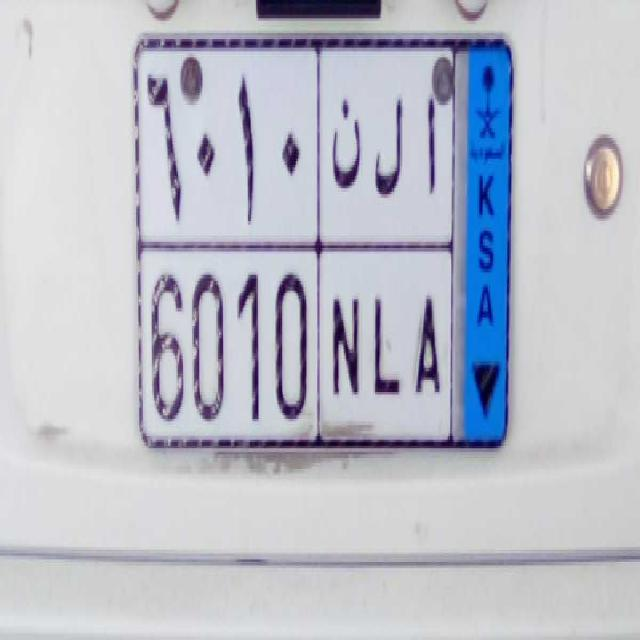license_plate: (142, 240, 446, 454)
